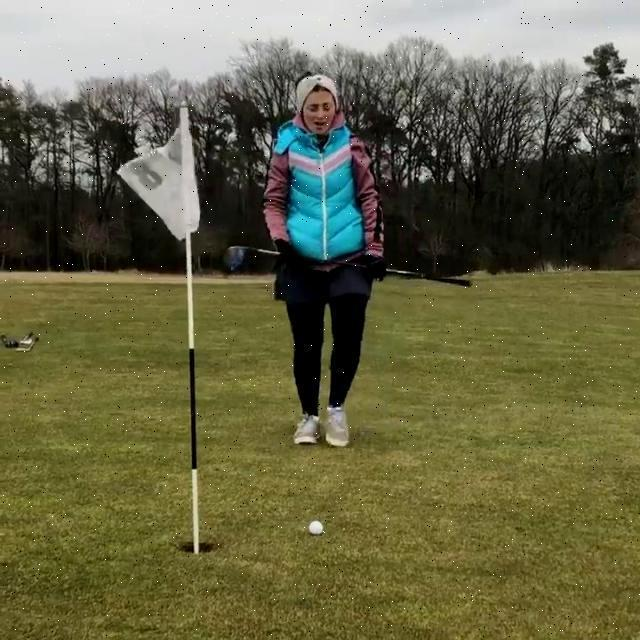ClubHead: (223, 246, 247, 271)
GolfBall: (308, 520, 324, 534)
